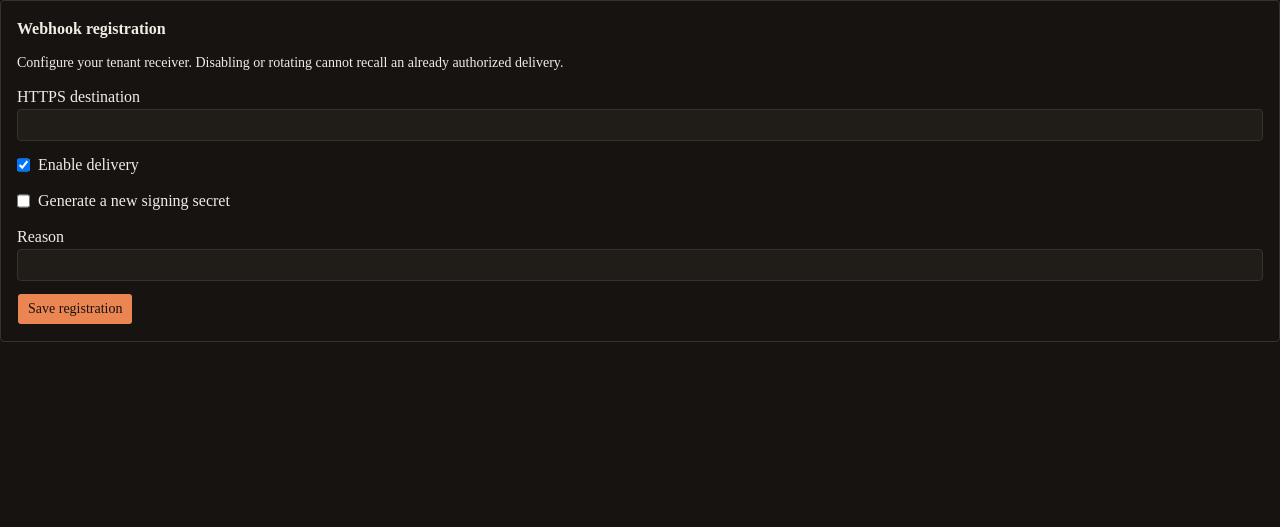
Test case: never persists the generated secret and clears it on account change
expect the button "Save registration" is enabled: met, box [17, 293, 134, 325]
Type "https://receiver.example/hook" into the field labelled "HTTPS destination" at [640, 125], box [17, 109, 1263, 141]
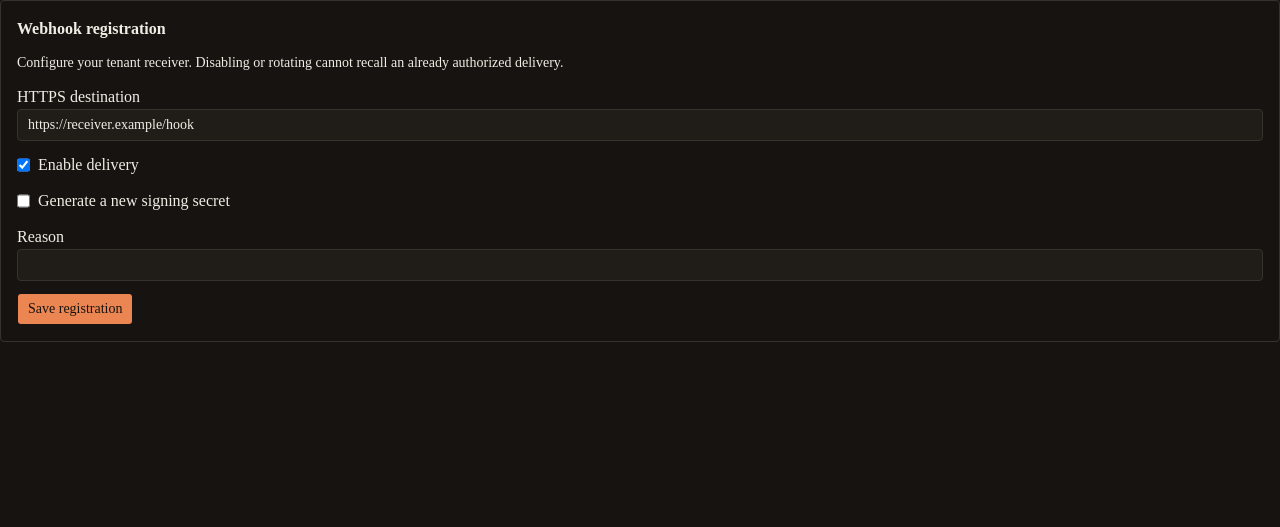
Type "Configure our event receiver." into the field named "Registration change reason" at [640, 265], box [17, 249, 1263, 281]
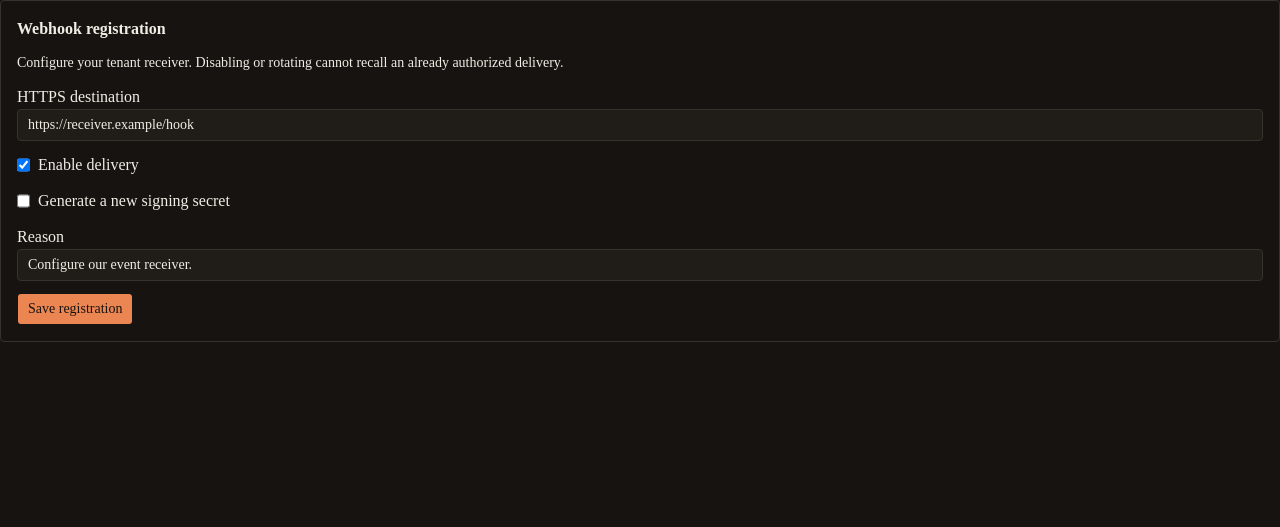
Click the button "Save registration" at [75, 309], box [17, 293, 134, 325]
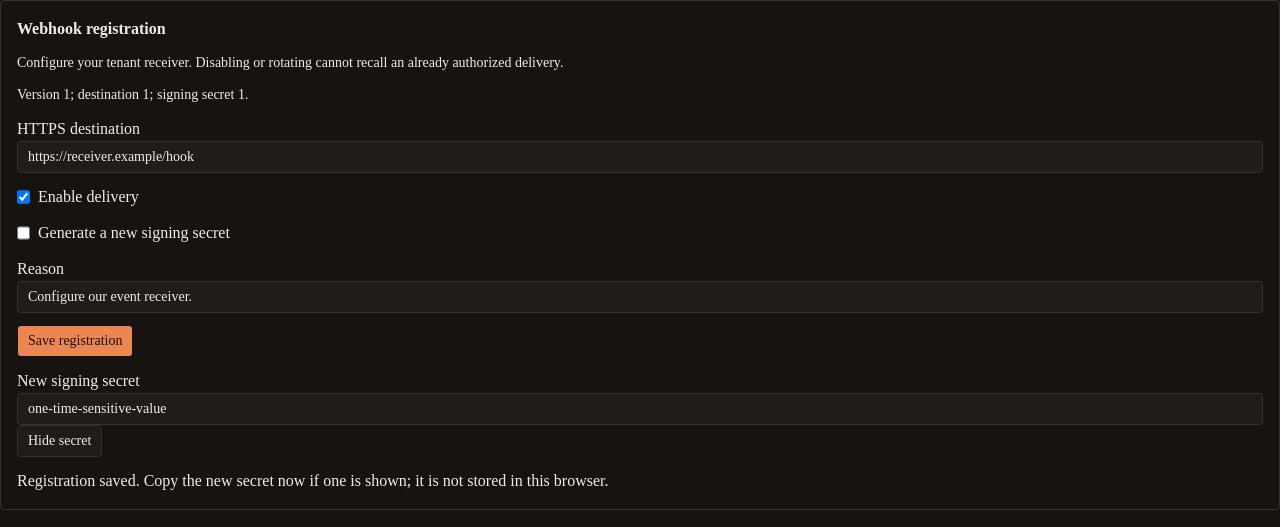
expect the field labelled "New signing secret" holds "one-time-sensitive-value": met, box [17, 393, 1263, 425]
